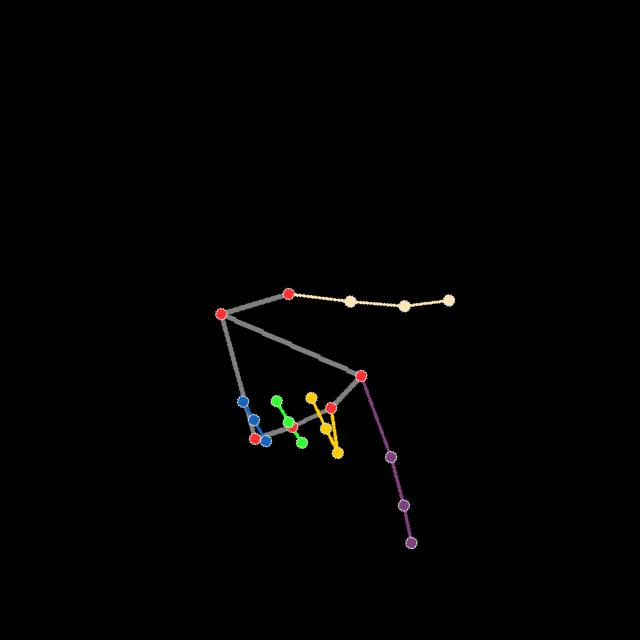gun: (211, 284, 457, 552)
